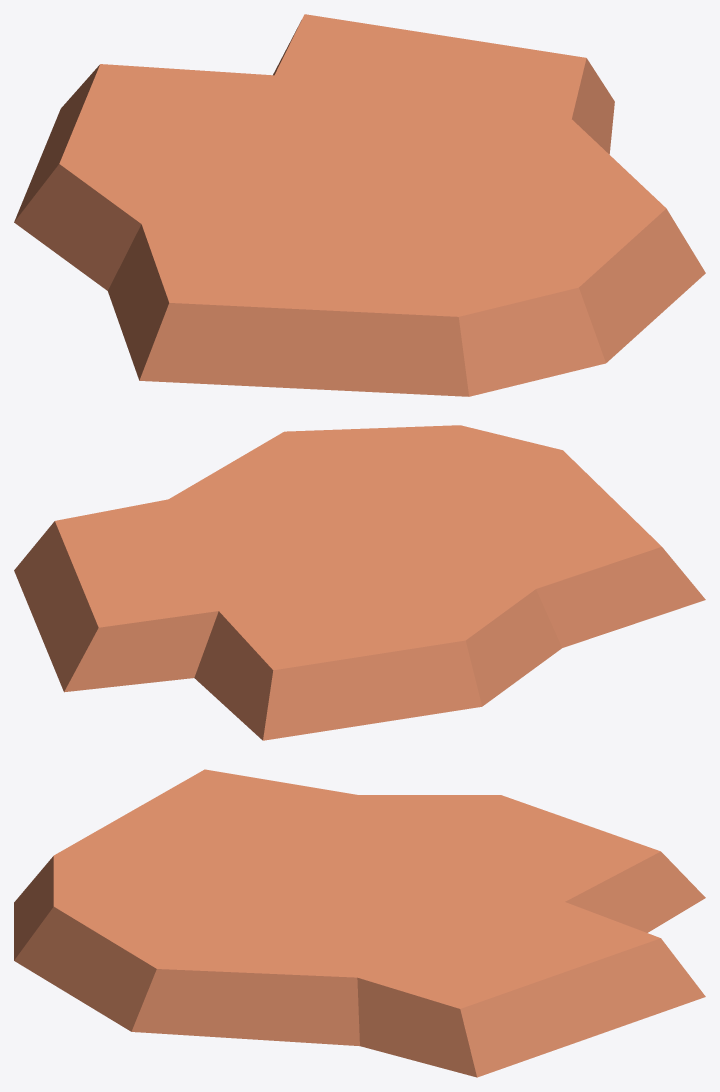
The model's file is Rock022.fbx.
3 views of the same model, one above another, from view 1: azimuth 30°, elevation 25°; view 2: azimuth 150°, elevation 25°; view 3: azimuth 270°, elevation 25° (orthographic). The views are drawn at different scales.
Visible parts, largest first — view 1: Rock022; view 2: Rock022; view 3: Rock022.
Part boxes in pixels (x1=…): Rock022: x1=14, y1=14, x2=705, y2=396; Rock022: x1=14, y1=425, x2=705, y2=740; Rock022: x1=14, y1=769, x2=705, y2=1077.
Size of the model in its own units: 125 by 11.23 by 134.
